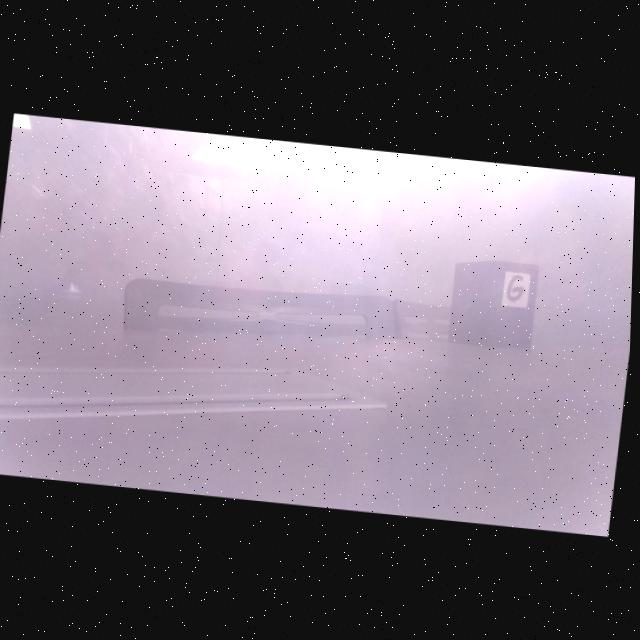G: (509, 273, 526, 300)
